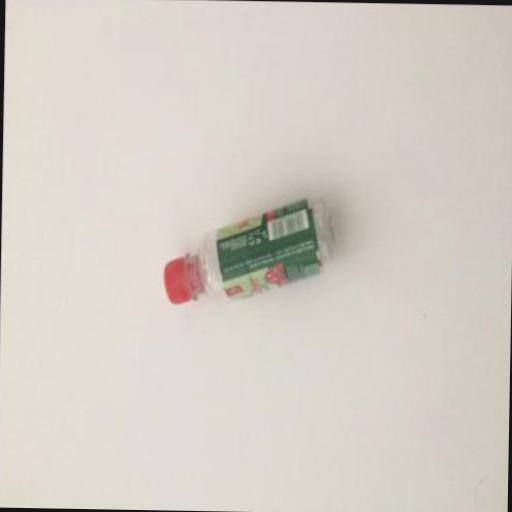plastic: (162, 194, 335, 302), (212, 195, 322, 300), (161, 254, 195, 303)
